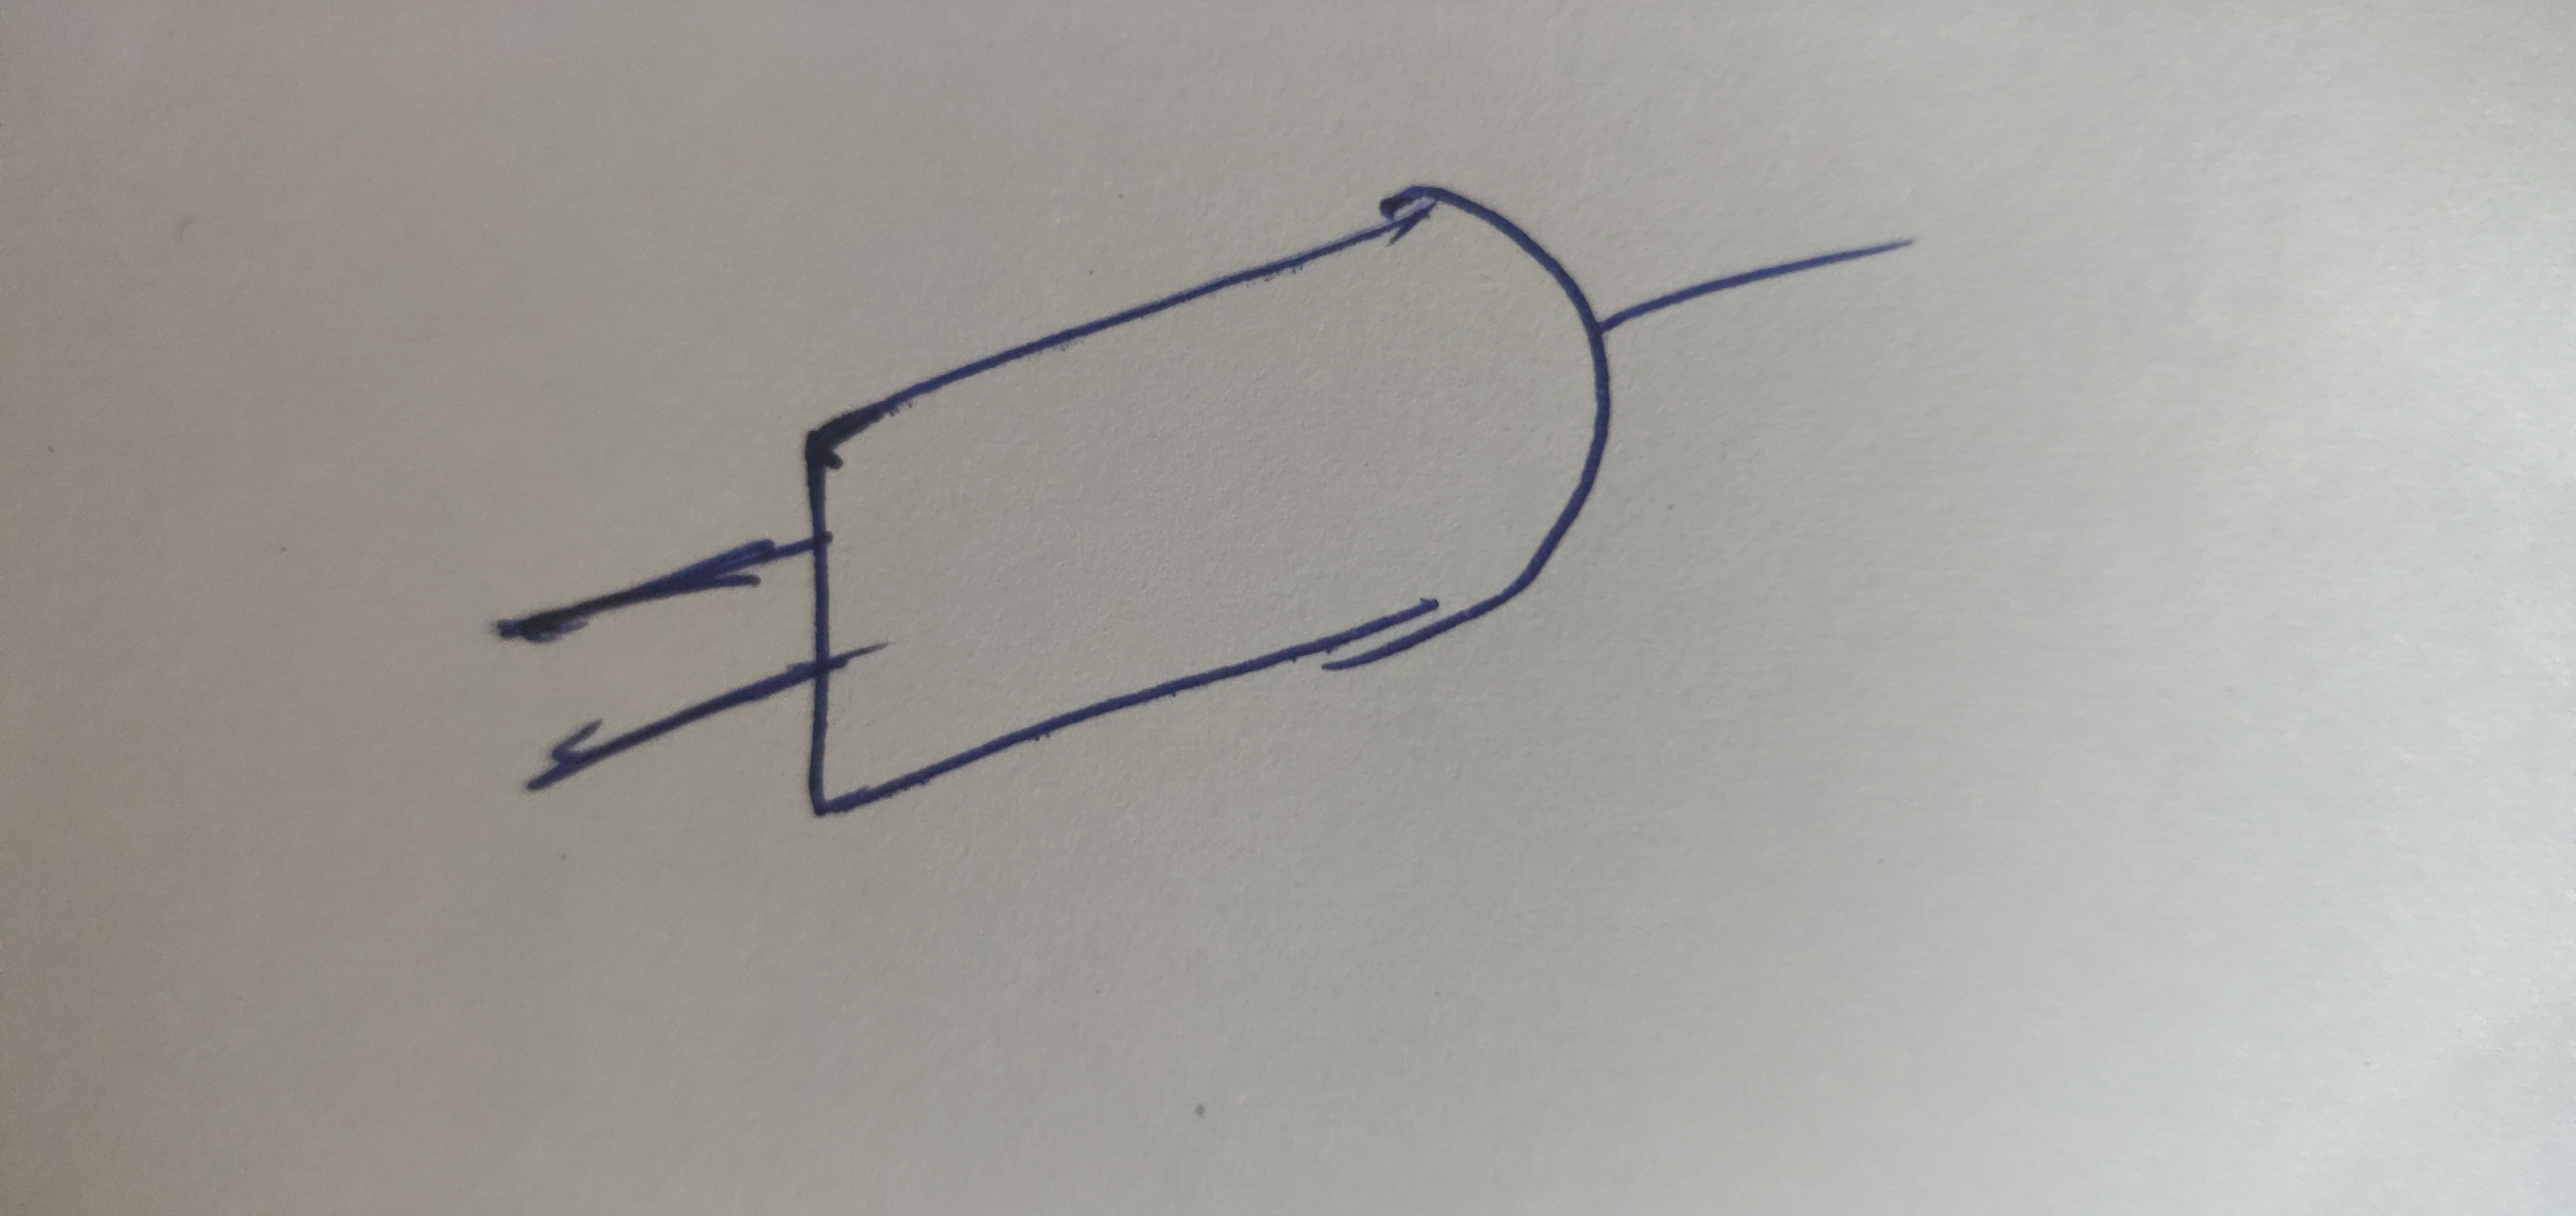and: (746, 118, 1718, 864)
